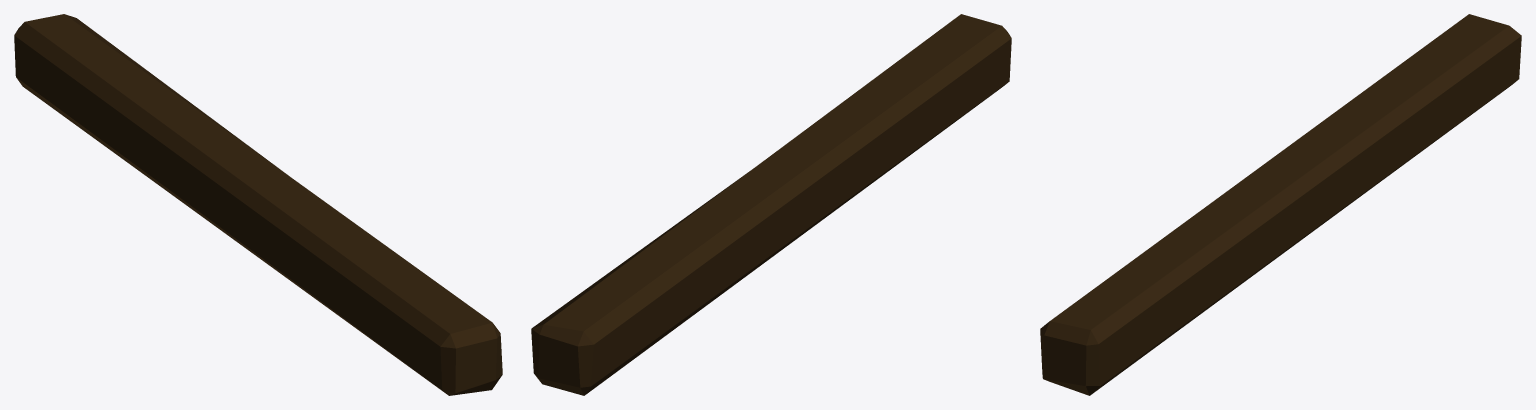
The model's file is 3D_BUILD_BALK2.FBX.
3 views of the same model, side by side, from view 1: azimuth 30°, elevation 25°; view 2: azimuth 150°, elevation 25°; view 3: azimuth 330°, elevation 25° (orthographic).
Parts seen in each view (by area): view 1: 3D_BUILD_BALK2; view 2: 3D_BUILD_BALK2; view 3: 3D_BUILD_BALK2.
Part boxes in pixels (left/top/right/bottom): 3D_BUILD_BALK2: left=14, top=14, right=502, bottom=395; 3D_BUILD_BALK2: left=531, top=14, right=1011, bottom=395; 3D_BUILD_BALK2: left=1040, top=14, right=1521, bottom=395.
Bounding box in the file's own units: 27.72 × 28.07 × 332.
